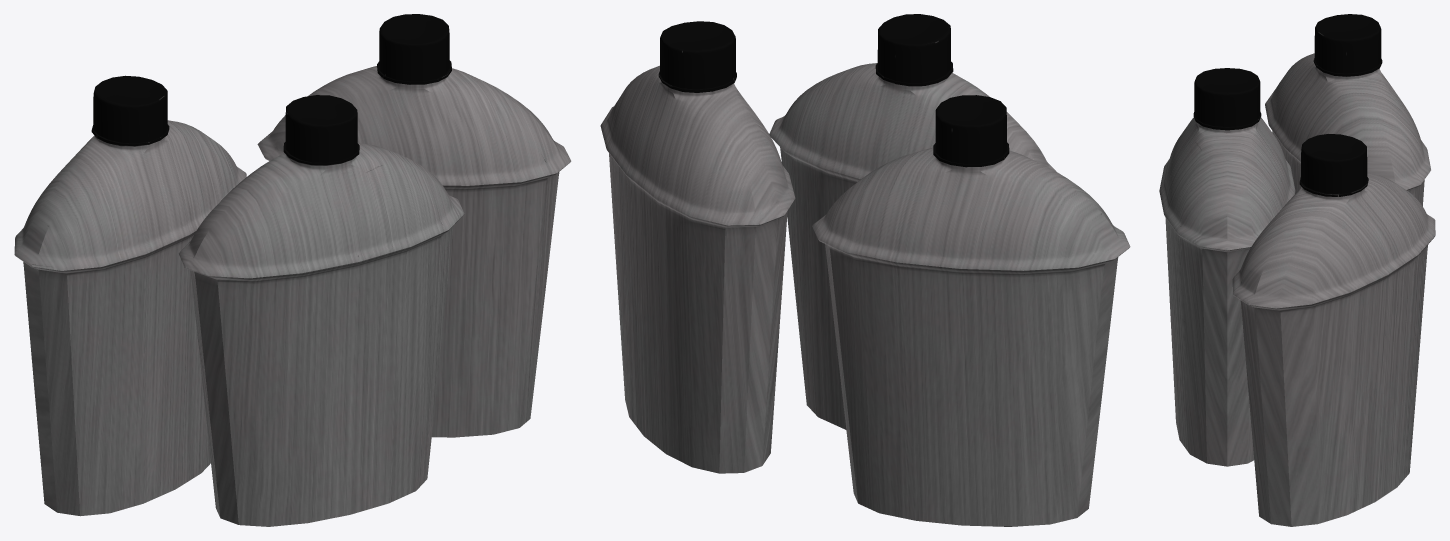
The model's file is VintageBottles1.fbx.
3 views of the same model, side by side, from view 1: azimuth 30°, elevation 25°; view 2: azimuth 150°, elevation 25°; view 3: azimuth 270°, elevation 25° (orthographic). The views are drawn at different scales.
Parts seen in each view (by area): view 1: Vintage Bottle.001; view 2: Vintage Bottle.001; view 3: Vintage Bottle.001.
Part boxes in pixels (x1,y1,x2,y2): Vintage Bottle.001: (14,14,571,526); Vintage Bottle.001: (600,14,1130,526); Vintage Bottle.001: (1159,14,1435,526).
Bounding box in the file's own units: 62.1 × 43.57 × 31.9.
Materials: 1 (1 with a texture image).
